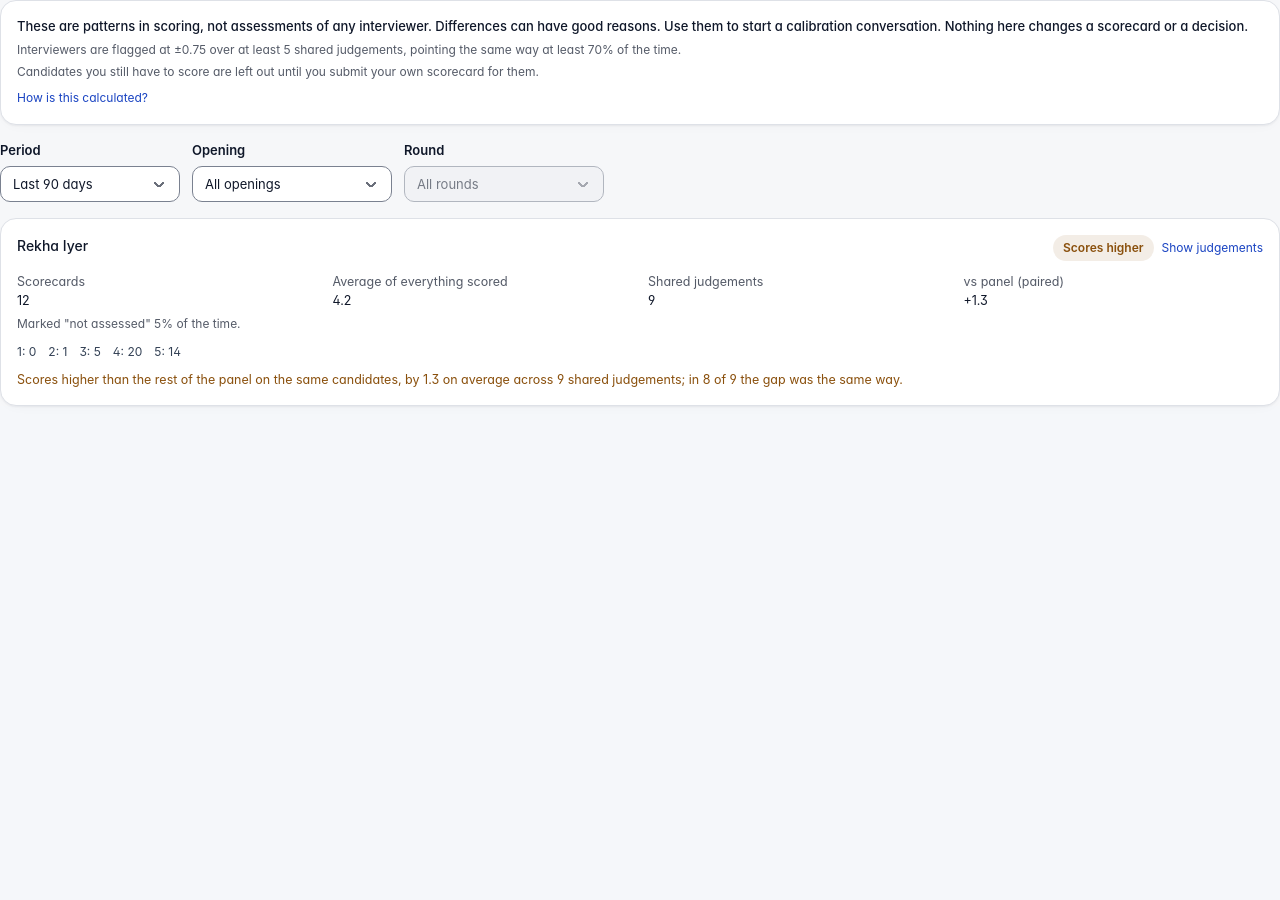
Test: CalibrationTab - judgements drill-down › shows the 422 "too few candidates" message plainly, not as an error
Click the button "Show judgements".
click(1212, 248)  # box [1162, 239, 1263, 257]
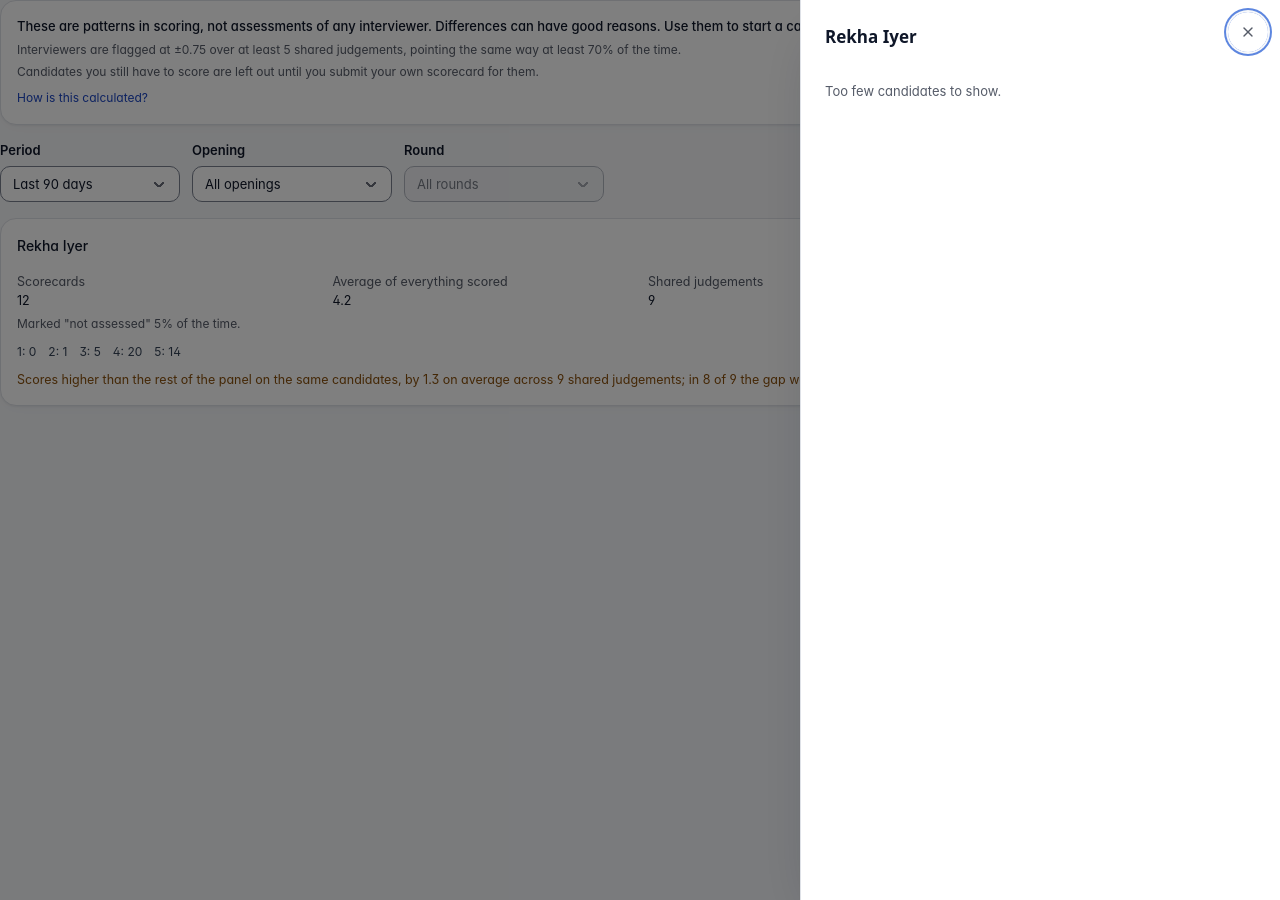
Expected: the text "Too few candidates to show." is shown, [825, 82, 1001, 98]
